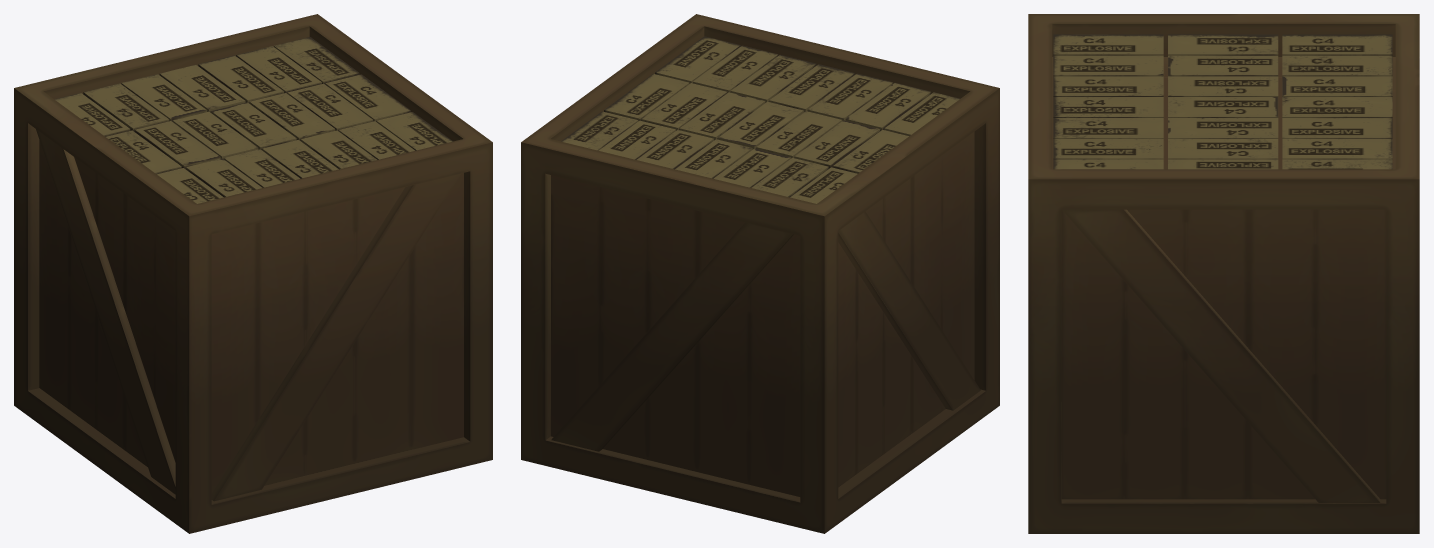
Rendered from crate_c4.fbx.
3 renders of one model, left to right at view 1: azimuth 30°, elevation 25°; view 2: azimuth 150°, elevation 25°; view 3: azimuth 270°, elevation 25°, orthographic. The views are drawn at different scales.
Parts seen in each view (by area): view 1: Cube.036; view 2: Cube.036; view 3: Cube.036.
Boxes of the visible parts, x1,y1,x2,y2 form: Cube.036: (14,14,492,533); Cube.036: (521,14,999,533); Cube.036: (1028,14,1419,533).
Bounding box in the file's own units: 607 × 607 × 607.
